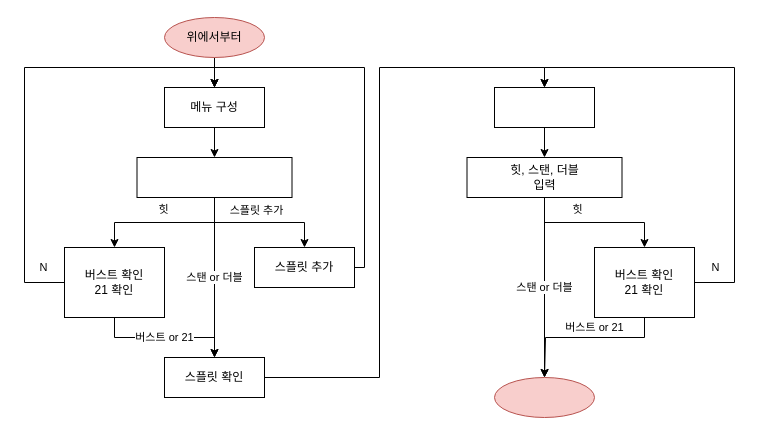
The diagram is 760 pixels wide and 435 high, and some of its shapes have lost their labels. Each missing label, with the centre of its shape:
"DealerTurn으로" belongs at point 544,397.
"스플릿의 메뉴 구성" belongs at point 544,107.
"힛, 스탠, 더블, 스플릿 입력" belongs at point 214,177.
